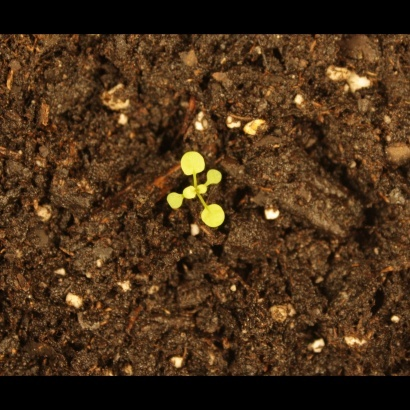leaf: (176, 151, 209, 179), (195, 204, 230, 229), (204, 165, 229, 193), (161, 189, 187, 213), (177, 185, 200, 208), (192, 180, 215, 203)
